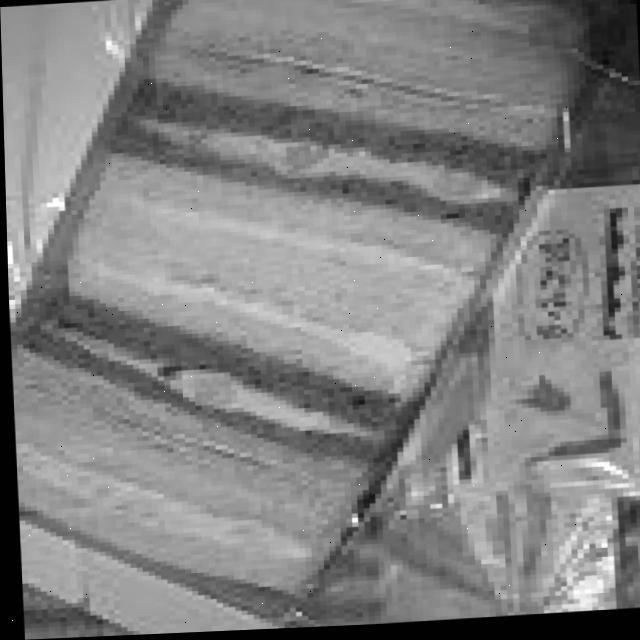三明治: (0, 0, 598, 622)
